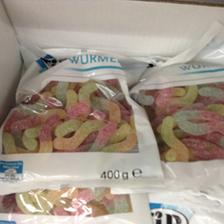Suessigkeit: (1, 42, 163, 190), (113, 50, 223, 208)
